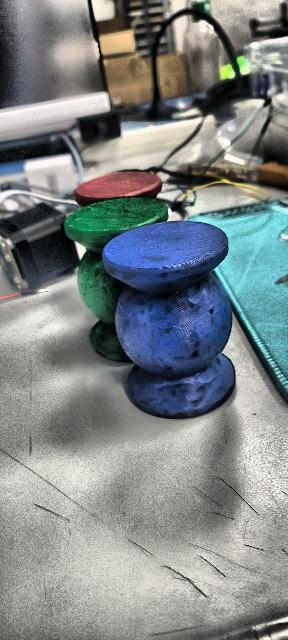blue: (102, 220, 236, 418)
green: (63, 199, 173, 365)
red: (68, 171, 159, 202)
